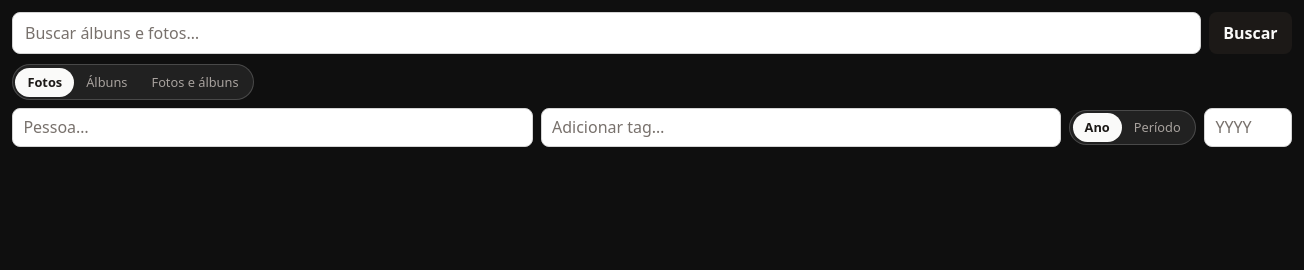
Test: PublicSearchBar › shows person suggestions with avatar after typing
Type "Fá" into the search field with test id "search-person-input" at (272, 127), box [12,108,533,147]
Wait 200 ms
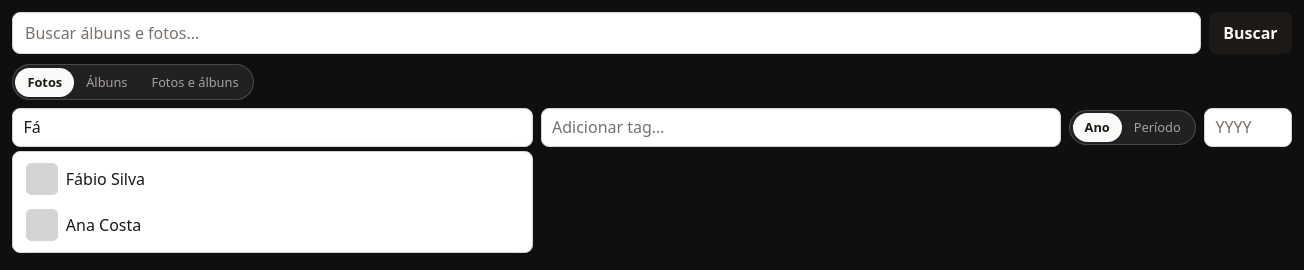
Expected: the list with test id "search-person-suggest" is shown, [12,151,533,254]
Expected: the text "Fábio Silva" is shown, [66,167,145,191]
